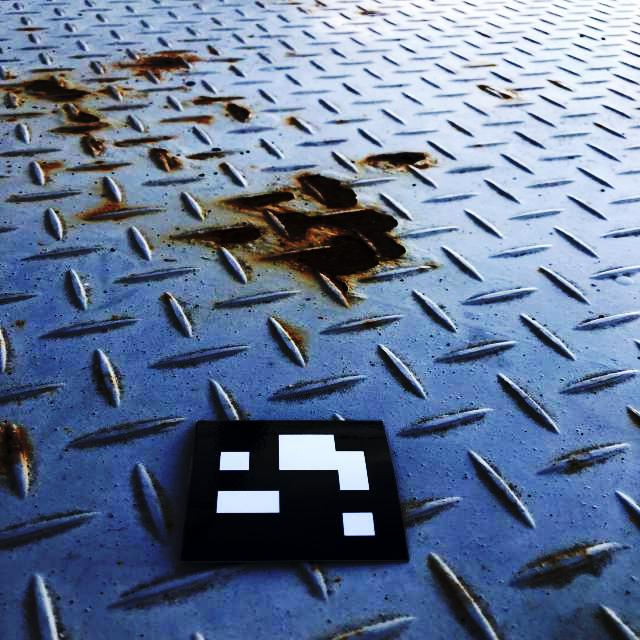Corrosion: (266, 209, 406, 294), (295, 174, 358, 210), (127, 51, 190, 80), (196, 224, 265, 246), (234, 189, 296, 212), (23, 79, 90, 100), (366, 151, 432, 168), (0, 425, 23, 472), (85, 196, 129, 219), (115, 135, 172, 146), (225, 103, 252, 123), (153, 148, 178, 168), (57, 126, 105, 136), (198, 95, 243, 105), (70, 109, 101, 123), (192, 152, 221, 160), (88, 138, 104, 152), (186, 56, 201, 64), (360, 11, 379, 15), (364, 321, 374, 326), (478, 85, 488, 90), (503, 94, 512, 99)
